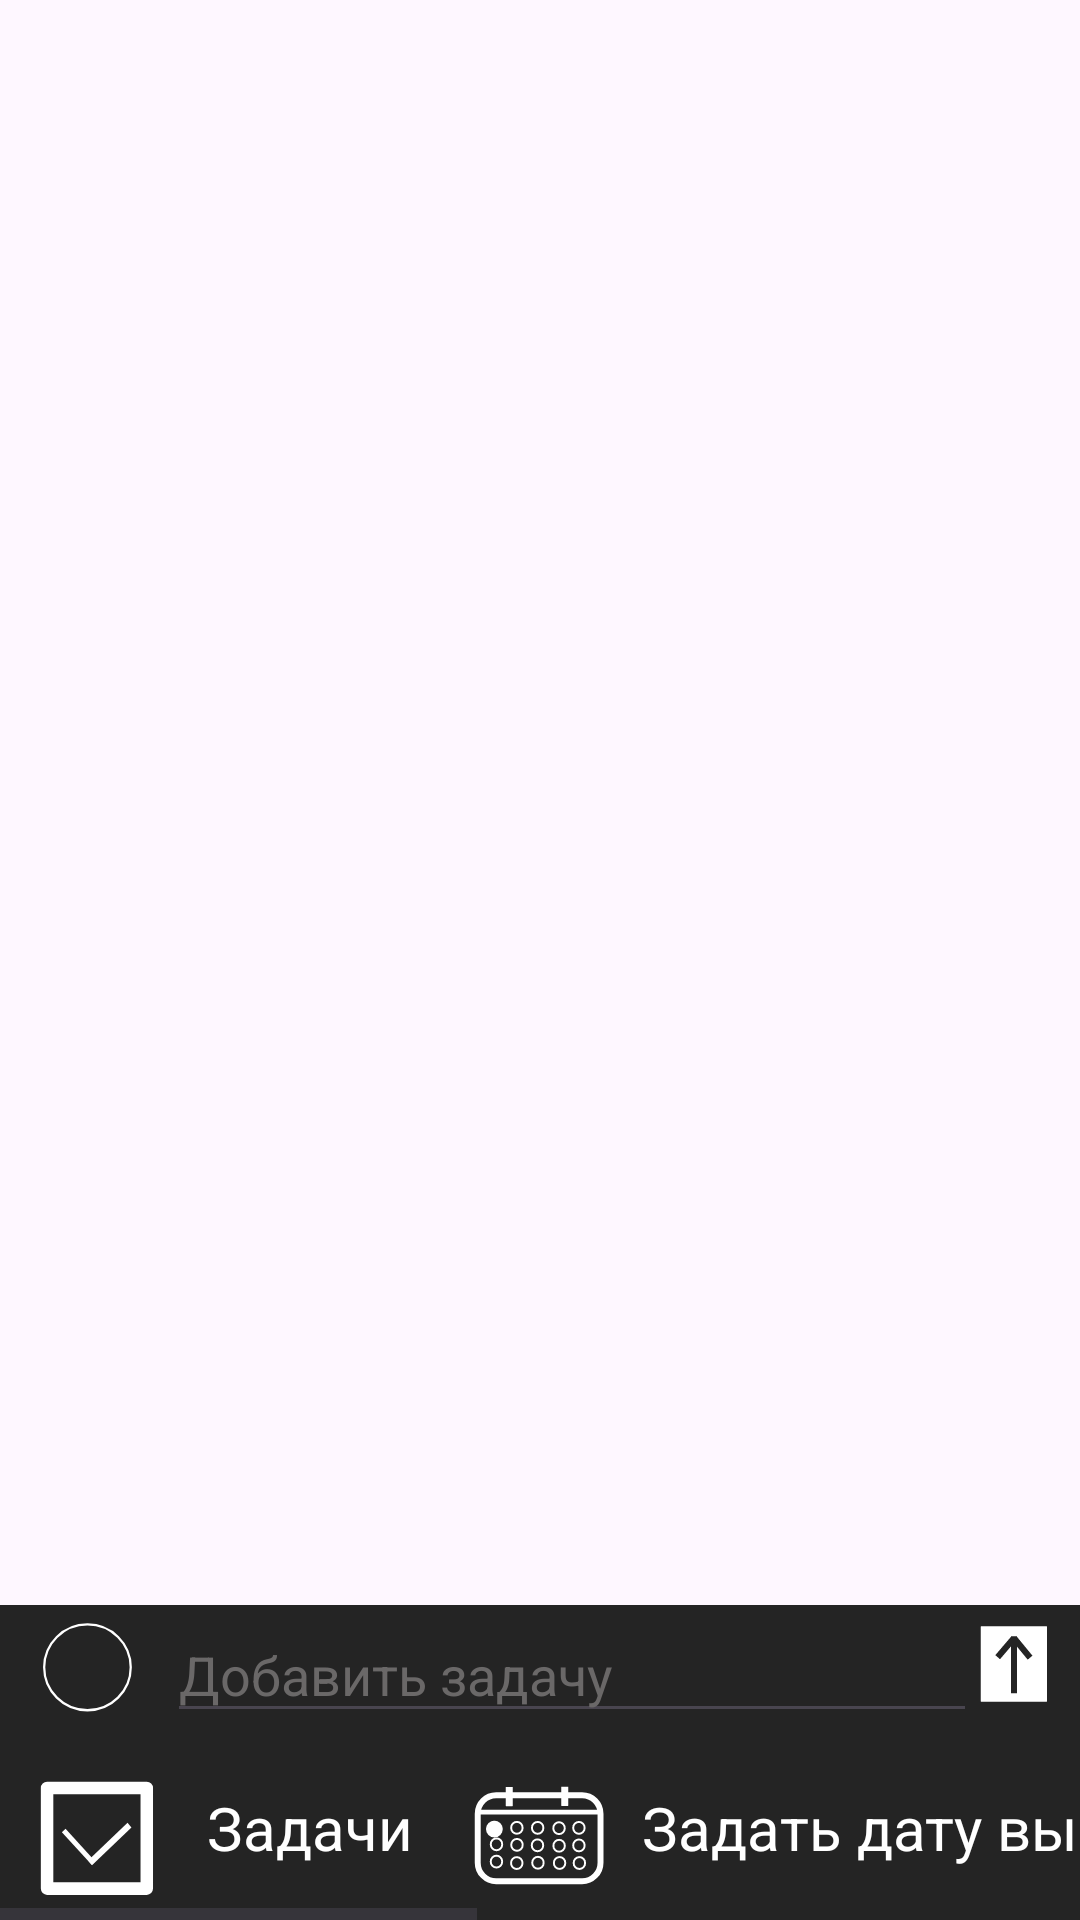

Where to tap for icons on this 1080*1920 app screen, as point (x, y):
arrow: point (1013, 1664)
calendar: point (539, 1835)
